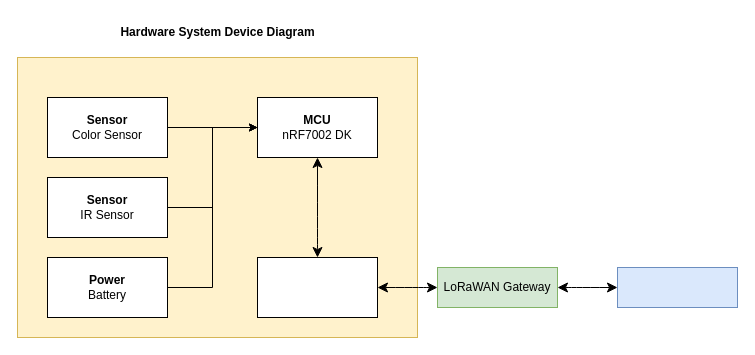
Some shapes in this 755 by 355 pixel diagram are drawn without their labels. Here are the shapes that lost their labels. From the top down, the box of each, then its label:
(16, 56, 418, 338): Desk Occupancy Sensor Module
(256, 256, 378, 318): LoRa Transceiver
(616, 266, 738, 308): Central Compute
